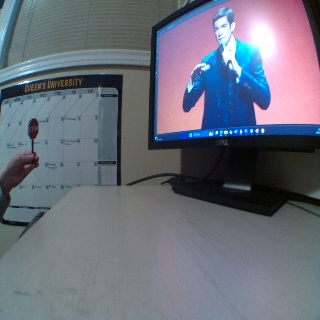sign_stop: (26, 117, 39, 137)
